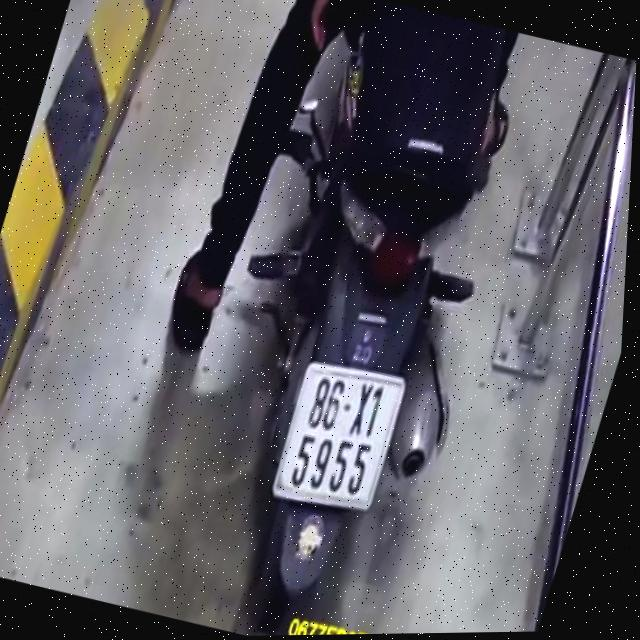motorcycle: (136, 24, 555, 637)
plate: (252, 343, 420, 526)
